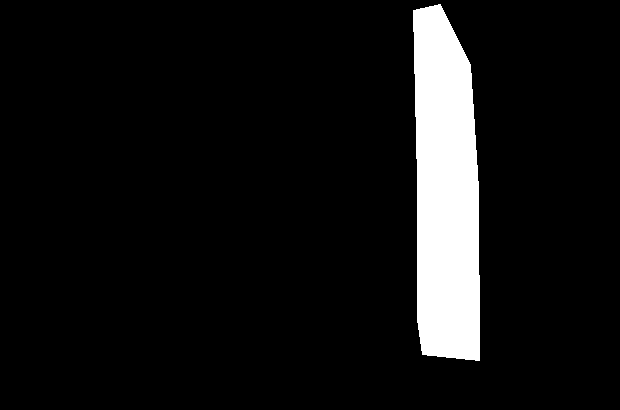type3s: (411, 2, 484, 366)
